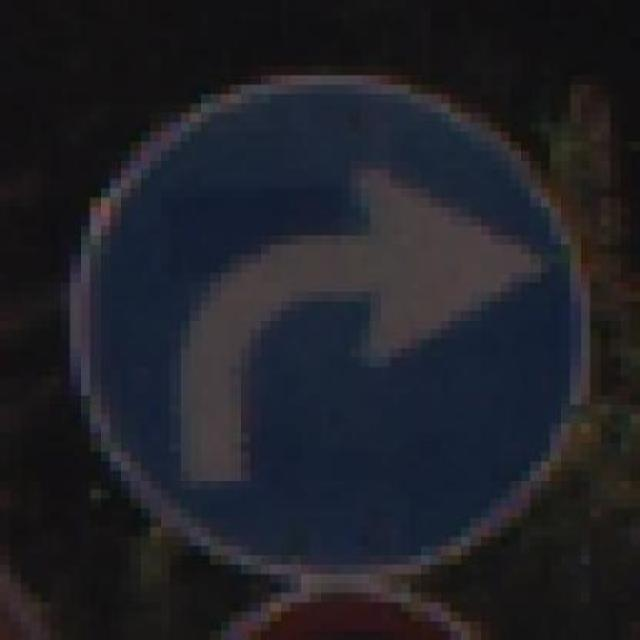Turn right ahead: (60, 66, 611, 583)
